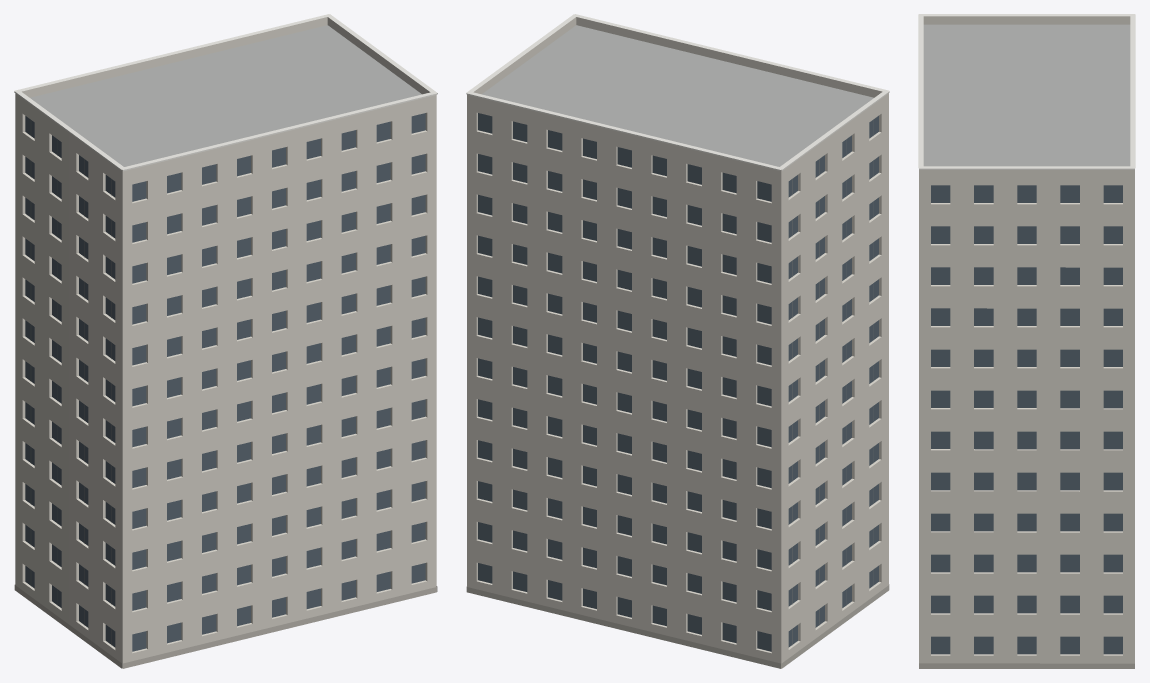
The picture shows the model from 3 angles, left to right: view 1: azimuth 30°, elevation 25°; view 2: azimuth 150°, elevation 25°; view 3: azimuth 270°, elevation 25°; orthographic projection.
Parts seen in each view (by area): view 1: dormEast__wall, dormEast__glass, dormEast__roof, dormEast__parapet, dormEast__trim, dormEast__base, dormEast__frame; view 2: dormEast__wall, dormEast__glass, dormEast__roof, dormEast__parapet, dormEast__trim, dormEast__base, dormEast__frame; view 3: dormEast__wall, dormEast__roof, dormEast__glass, dormEast__parapet, dormEast__trim, dormEast__base.
Boxes of the visible parts, x1,y1,x2,y2 form: dormEast__wall: (15,99,436,668); dormEast__glass: (25,113,425,651); dormEast__roof: (30,25,421,166); dormEast__parapet: (15,17,436,177); dormEast__trim: (14,14,437,171); dormEast__base: (14,584,437,668); dormEast__frame: (30,120,111,645); dormEast__wall: (467,99,888,668); dormEast__glass: (478,113,878,651); dormEast__roof: (482,25,873,166); dormEast__parapet: (467,17,888,177); dormEast__trim: (466,14,889,171); dormEast__base: (466,584,889,668); dormEast__frame: (792,120,873,645); dormEast__wall: (919,176,1134,663); dormEast__roof: (923,24,1130,166); dormEast__glass: (931,185,1122,654); dormEast__parapet: (919,16,1134,176); dormEast__trim: (918,14,1135,169); dormEast__base: (919,663,1134,668).
Size of the model in its own units: 24.25 by 36.6 by 14.42.
